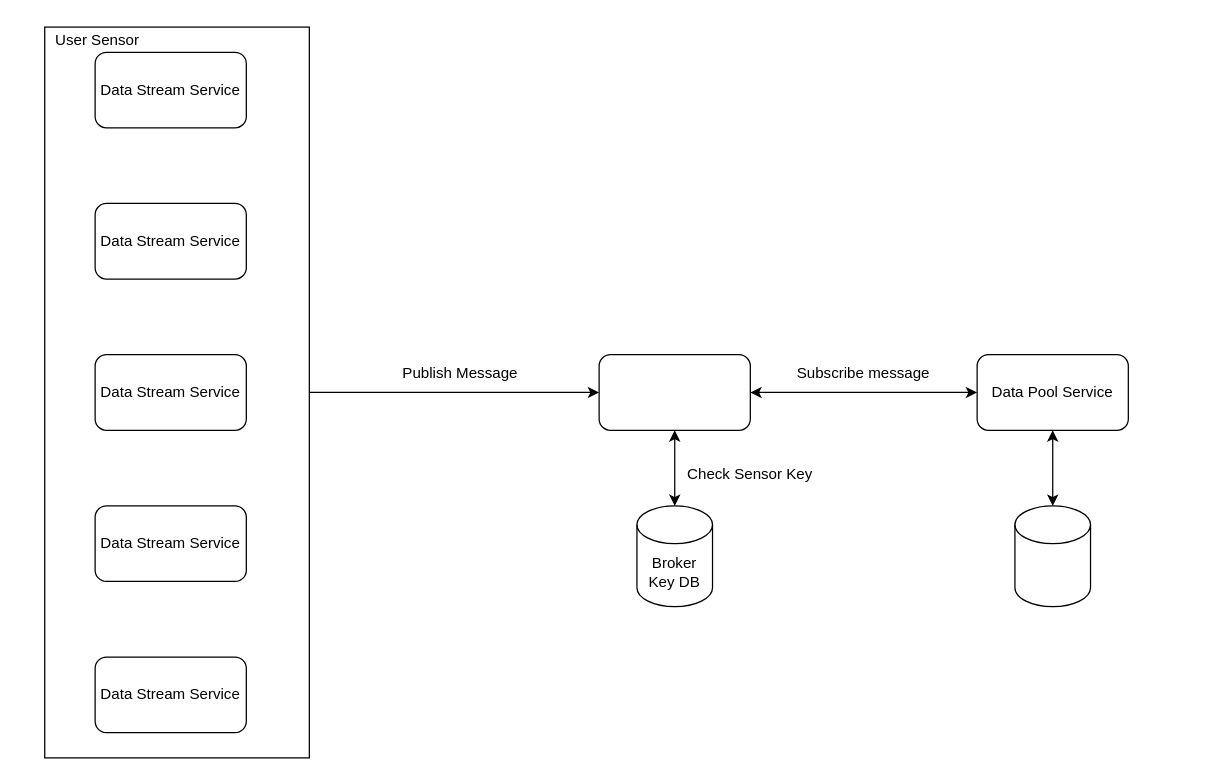
This 1206x780 diagram has some shape labels left out. The centre of each missing label's shape, as x and y in pixels:
"Data Pool DB" goes at point 1052,556.
"EMQX MQTT Broker" goes at point 674,391.
